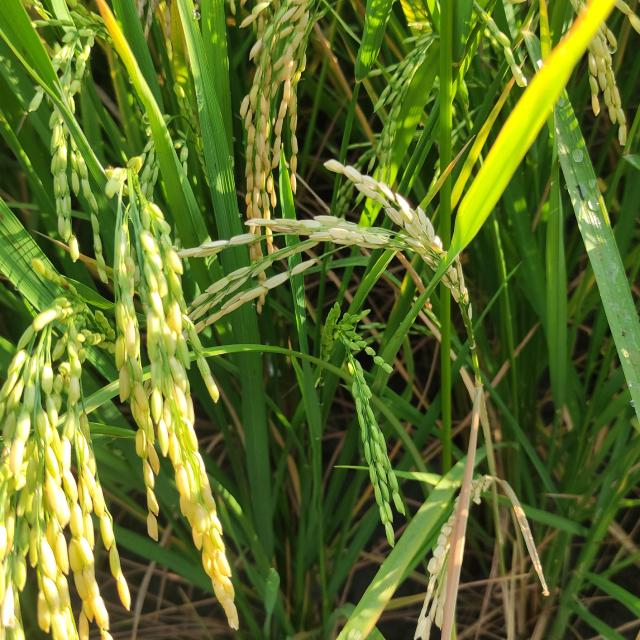Brown spot: (93, 1, 145, 87)
insects: (15, 42, 33, 60), (619, 326, 630, 342)
